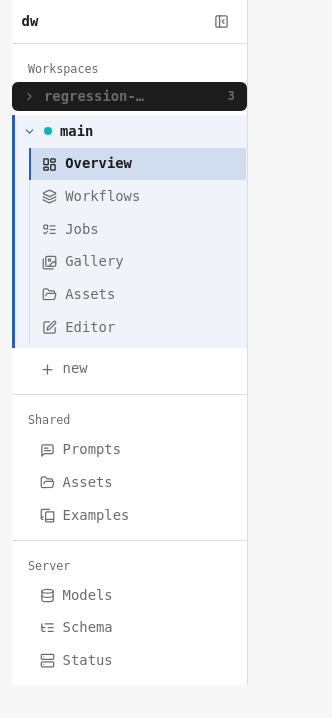
Test: folds a run of same-prefix workspaces into one group row
Expected: the text "regression-a" is not shown
Click the button "regression-… 3": [130, 96] box [12,82,247,111]
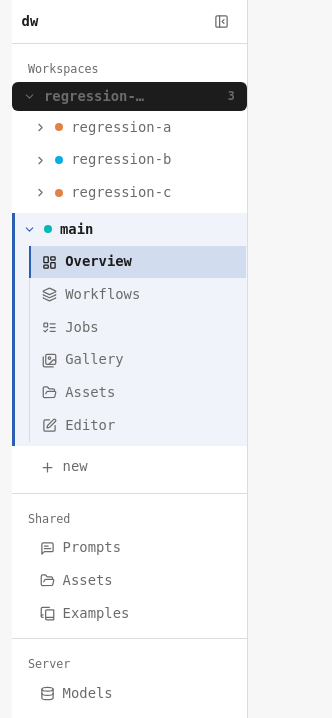
Now the text "regression-a" is shown, box [71,119,171,135]
